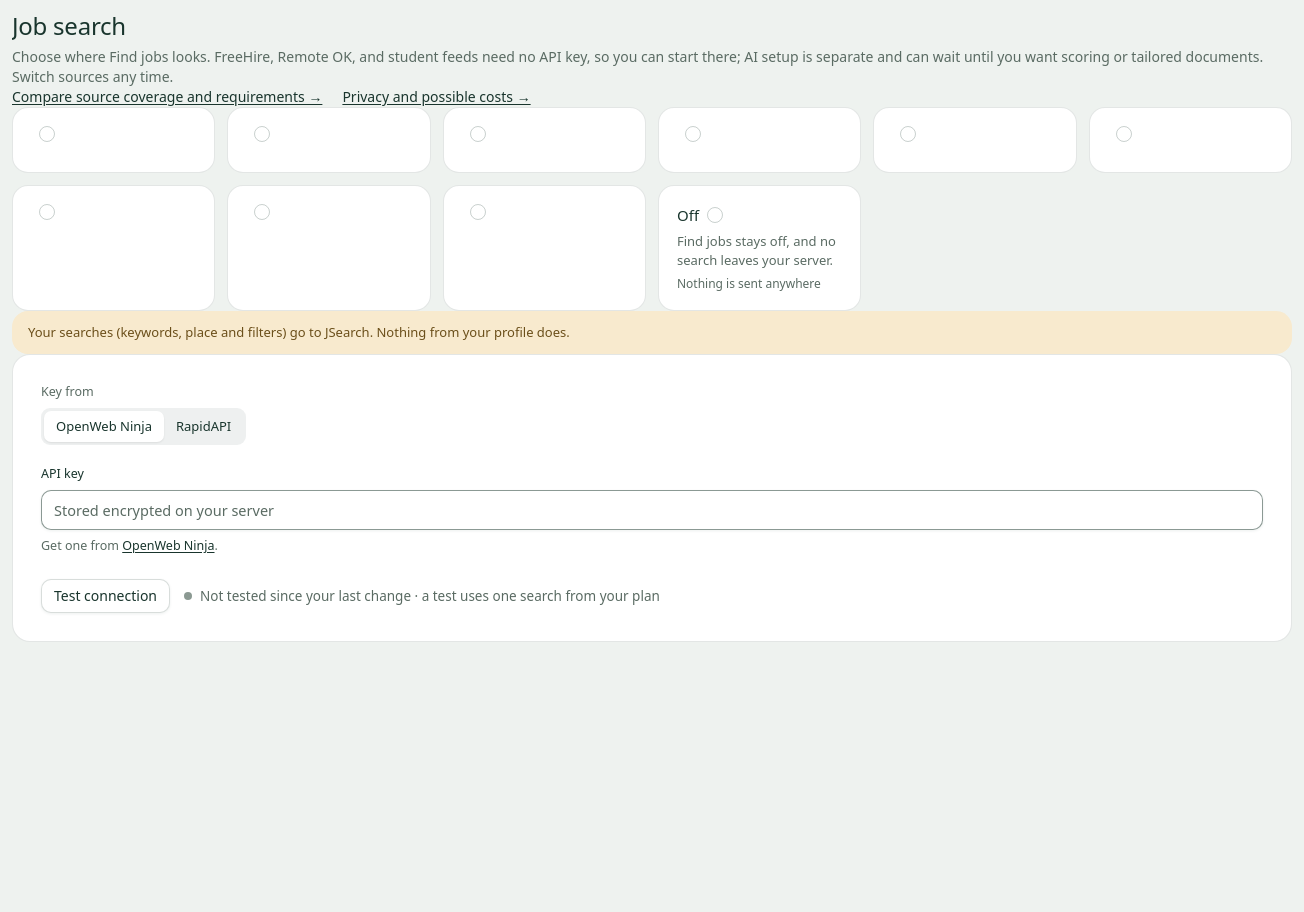
JobSearchSection › switches where the JSearch key is from
Click the radio button labelled "RapidAPI" at (204, 426), box [164,411,243,442]
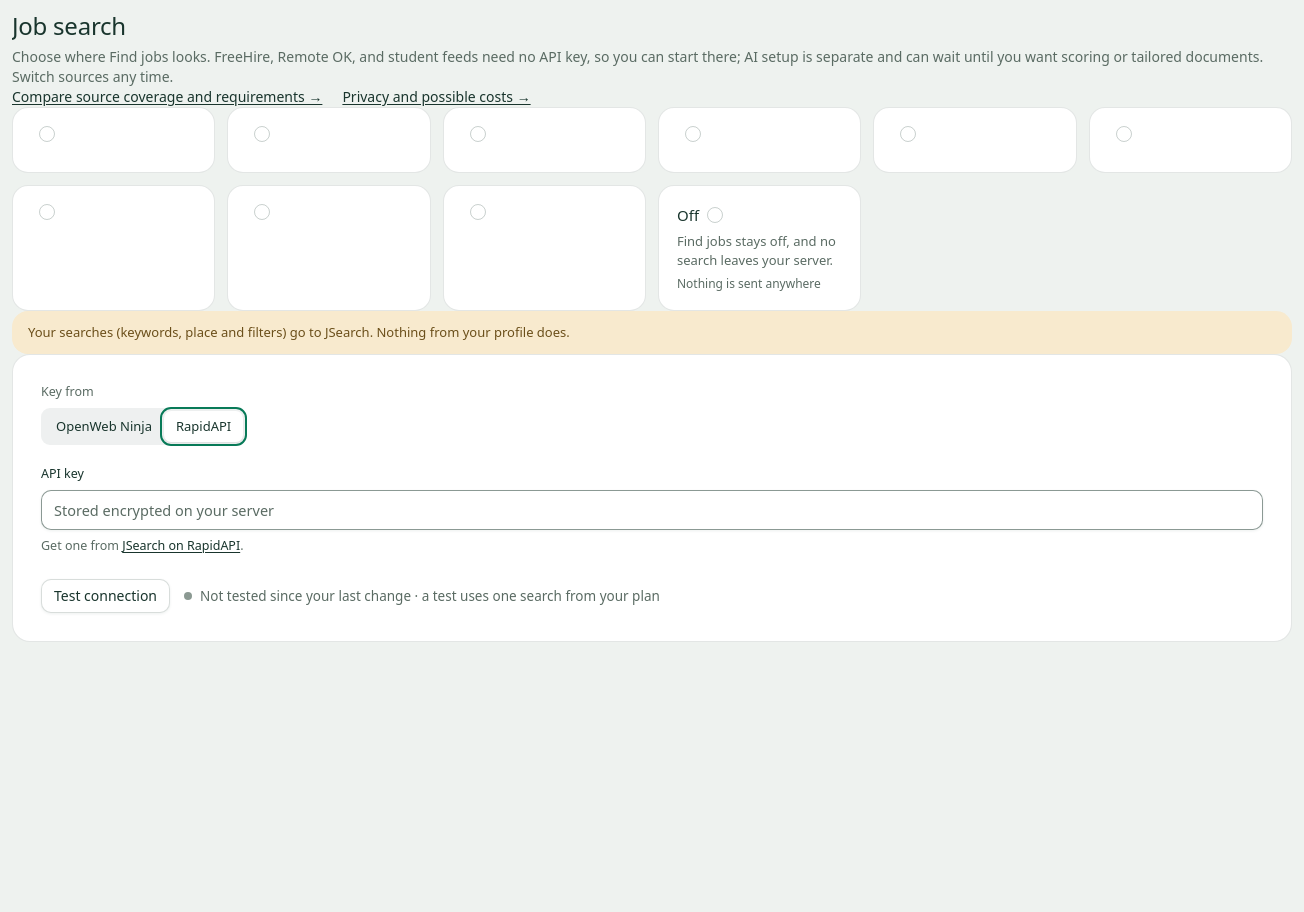
Now the link "JSearch on RapidAPI" is shown, box [122,537,240,554]
